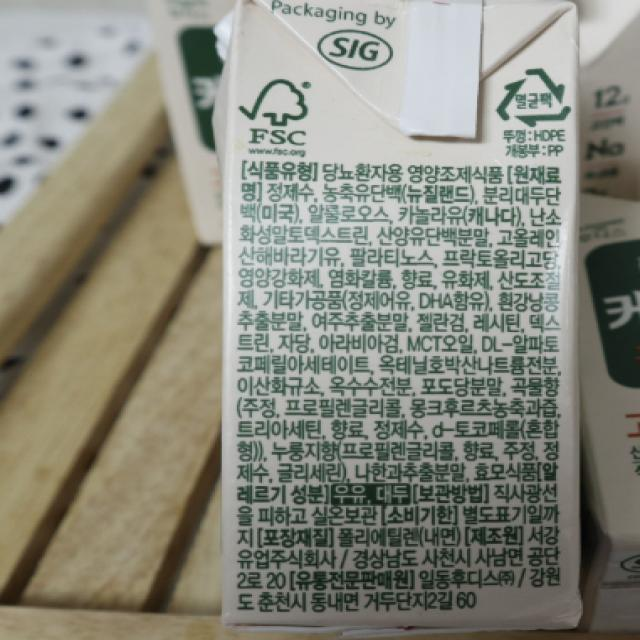SterilizedPack: (489, 65, 577, 131)
